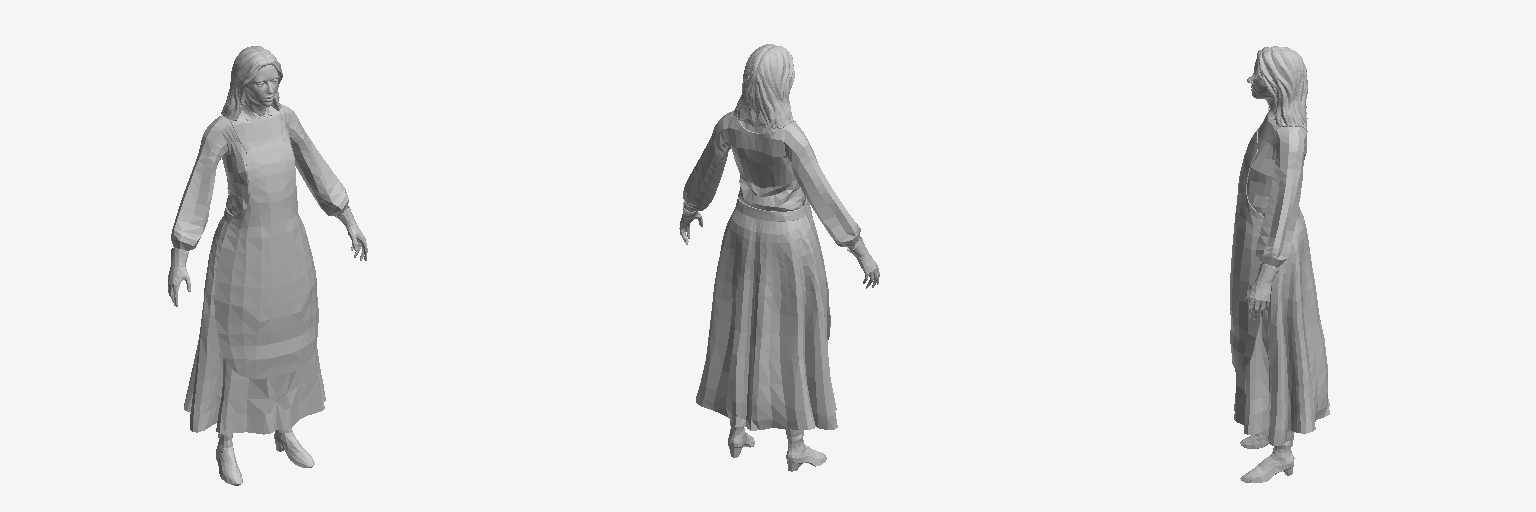
Rendered from Kasap_final.obj.
The picture shows the model from 3 angles: view 1: azimuth 30°, elevation 25°; view 2: azimuth 150°, elevation 25°; view 3: azimuth 270°, elevation 25°; orthographic projection.
Parts seen in each view (by area): view 1: frontcloth_low, undercloth_low, cloth_low, hair_low, boots_low, gloves_low, kasap_head_low; view 2: undercloth_low, cloth_low, hair_low, boots_low, gloves_low, frontcloth2_low; view 3: undercloth_low, cloth_low, frontcloth_low, hair_low, boots_low, gloves_low.
Boxes of the visible parts, x1=… form: frontcloth_low: x1=214, y1=141, x2=318, y2=378; undercloth_low: x1=184, y1=215, x2=325, y2=434; cloth_low: x1=171, y1=103, x2=348, y2=250; hair_low: x1=221, y1=46, x2=282, y2=120; boots_low: x1=216, y1=428, x2=314, y2=485; gloves_low: x1=168, y1=206, x2=367, y2=306; kasap_head_low: x1=244, y1=65, x2=277, y2=114; undercloth_low: x1=696, y1=207, x2=837, y2=430; cloth_low: x1=683, y1=111, x2=860, y2=249; hair_low: x1=733, y1=44, x2=794, y2=128; boots_low: x1=728, y1=421, x2=826, y2=471; gloves_low: x1=679, y1=201, x2=879, y2=288; frontcloth2_low: x1=736, y1=198, x2=806, y2=221; undercloth_low: x1=1234, y1=210, x2=1329, y2=445; cloth_low: x1=1247, y1=107, x2=1306, y2=268; frontcloth_low: x1=1230, y1=129, x2=1263, y2=369; hair_low: x1=1254, y1=46, x2=1307, y2=126; boots_low: x1=1240, y1=428, x2=1294, y2=482; gloves_low: x1=1245, y1=263, x2=1278, y2=319.
Bounding box in the file's own units: 8.16 × 16.5 × 3.63.